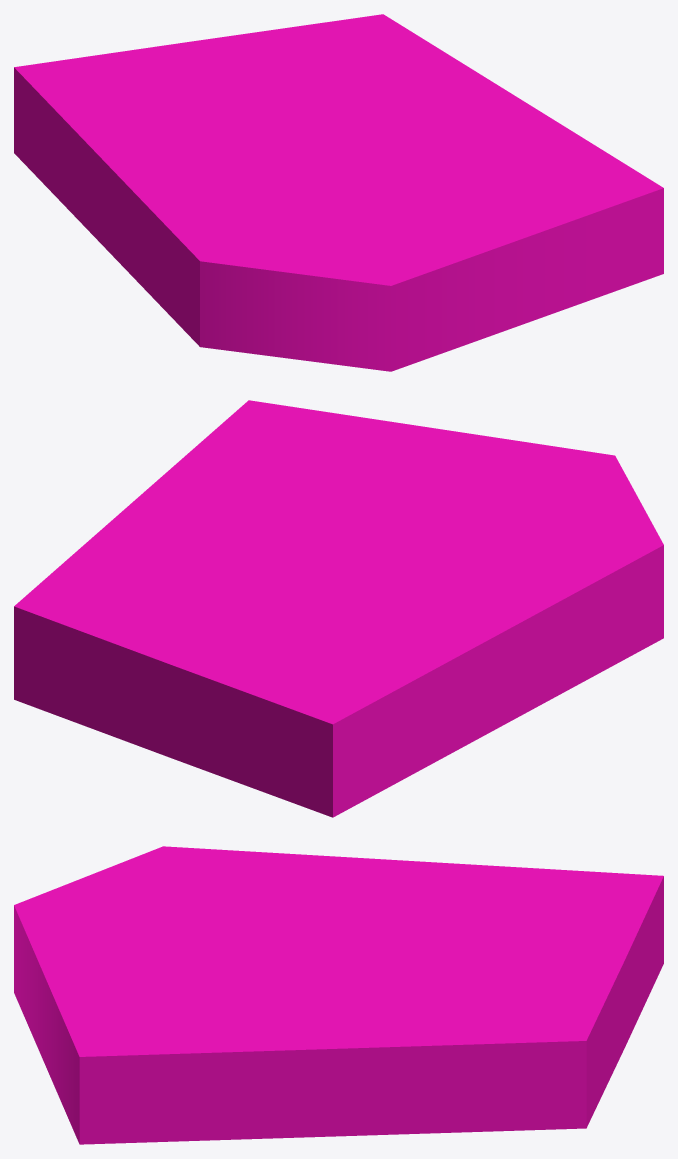
File: study_magazine_pile_2_meshCollider.fbx
3 views of the same model, one above another, from view 1: azimuth 30°, elevation 25°; view 2: azimuth 150°, elevation 25°; view 3: azimuth 270°, elevation 25° (orthographic). The views are drawn at different scales.
Parts seen in each view (by area): view 1: study_magazine_pile_2_meshCollider; view 2: study_magazine_pile_2_meshCollider; view 3: study_magazine_pile_2_meshCollider.
Part boxes in pixels (bbox=[...]): study_magazine_pile_2_meshCollider: bbox=[14, 14, 663, 371]; study_magazine_pile_2_meshCollider: bbox=[14, 400, 663, 817]; study_magazine_pile_2_meshCollider: bbox=[14, 846, 663, 1144].
Bounding box in the file's own units: 21 × 4.07 × 27.38.
